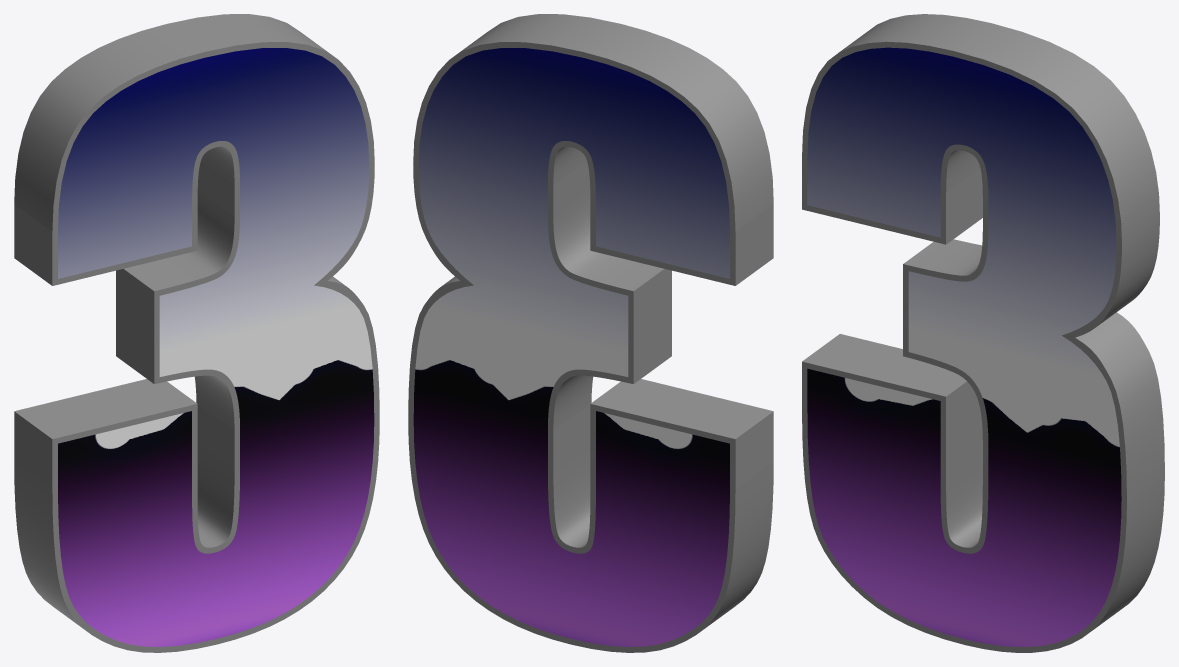
3 renders of one model, left to right at view 1: azimuth 30°, elevation 25°; view 2: azimuth 150°, elevation 25°; view 3: azimuth 330°, elevation 25°, orthographic.
Visible parts, largest first — view 1: 3, 3_outline; view 2: 3, 3_outline; view 3: 3, 3_outline.
Part boxes in pixels (x1,y1,x2,y2): 3: (58, 48, 374, 646); 3_outline: (14, 14, 379, 652); 3: (413, 48, 729, 646); 3_outline: (408, 14, 773, 652); 3: (807, 47, 1121, 646); 3_outline: (802, 14, 1164, 652).
Size of the model in its own units: 59.3 by 103 by 12.
Materials: 2 (1 with a texture image).
